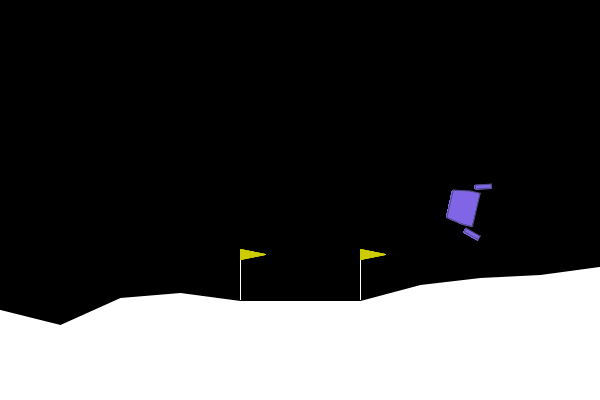lander: (441, 174, 493, 242)
